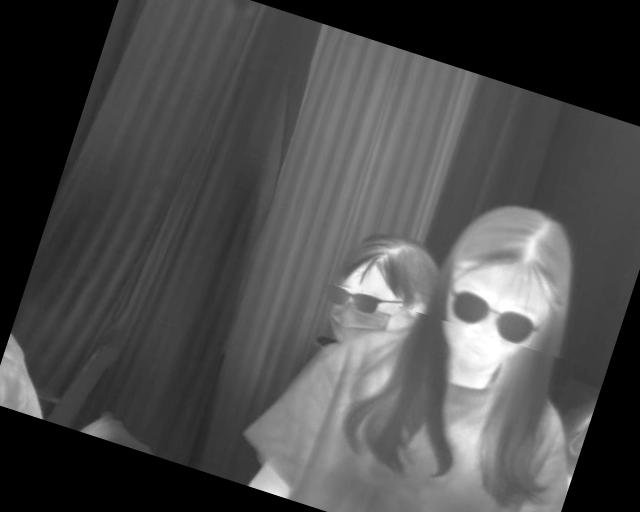face: (424, 191, 589, 392), (312, 219, 441, 366)
